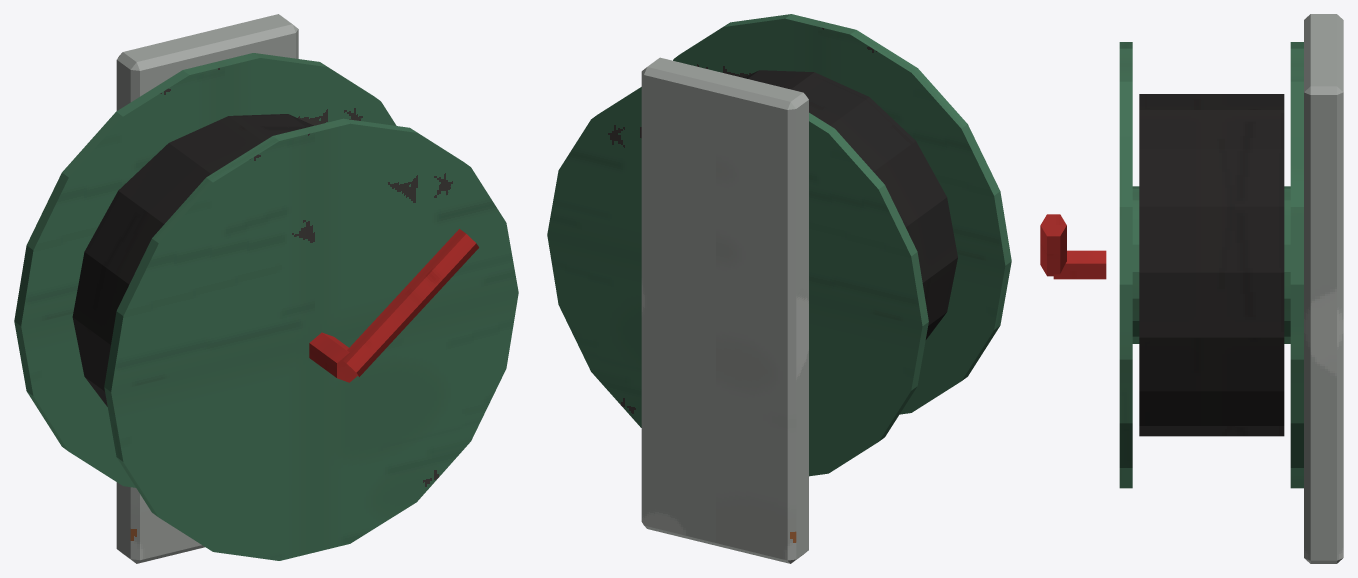
Rendered from hose_reel.glb.
3 renders of one model, left to right at view 1: azimuth 30°, elevation 25°; view 2: azimuth 150°, elevation 25°; view 3: azimuth 270°, elevation 25°, orthographic. The views are drawn at different scales.
Visible parts, largest first — view 1: p; view 2: p; view 3: p.
Boxes of the visible parts, x1,y1,x2,y2 form: p: (14, 14, 518, 563); p: (547, 14, 1011, 563); p: (1040, 14, 1343, 563).
Bounding box in the file's own units: 0.34 × 0.4 × 0.23.
Materials: 4 (4 with a texture image).
